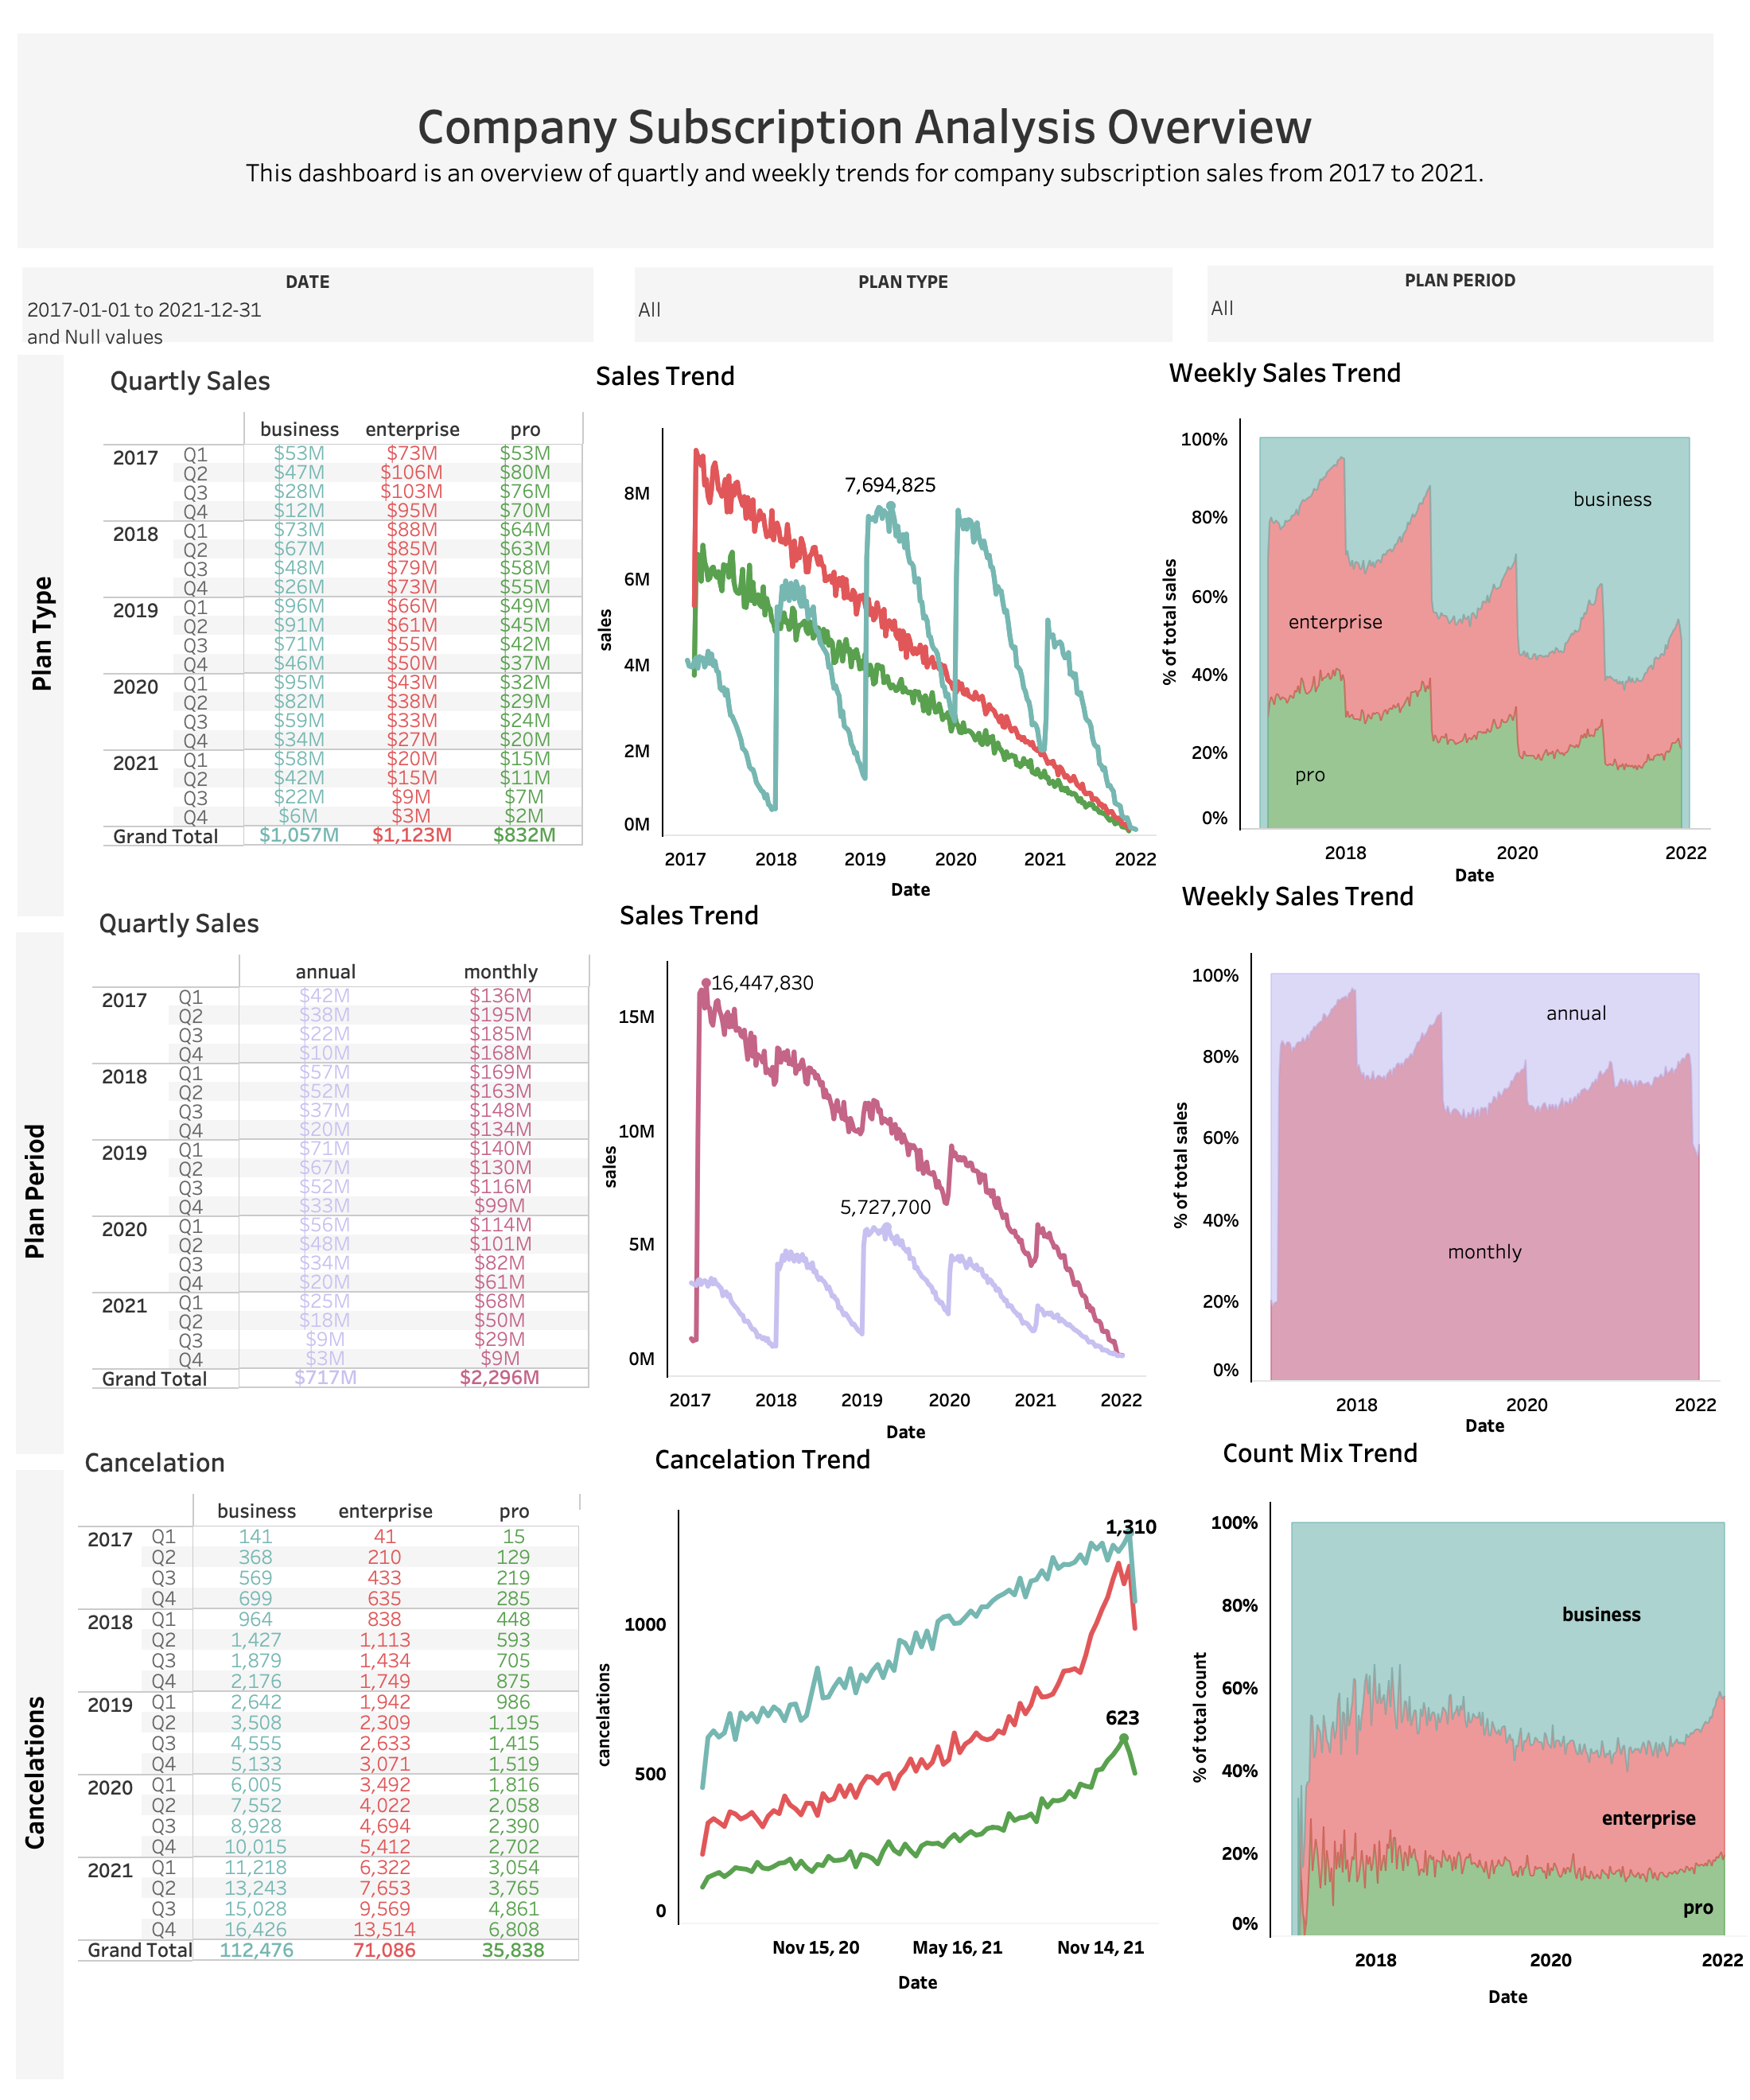

This screenshot's page, from the dashboard's own definition file:
{"tool":"tableau","page":{"name":"Dashboard 1","canvas":[1100,1320],"ordinal":0},"visuals":[{"type":"text","box":[11,21,1066,135]},{"type":"filter","title":"billing period chart","param":"[federated.15l2kb11gxwmot1cpguur0mqyc2r].[none:billing_period:nk]","box":[759,167,318,48]},{"type":"filter","title":"Sales Trend","param":"[federated.15l2kb11gxwmot1cpguur0mqyc2r].[none:Signup Date (copy)_65050274692199","box":[14,168,359,47]},{"type":"filter","title":"Sales Trend","param":"[federated.15l2kb11gxwmot1cpguur0mqyc2r].[none:product:nk]","box":[399,168,338,47]},{"type":"text","box":[732,219,170,30]},{"type":"text","box":[372,221,100,30]},{"type":"worksheet","title":"Sales Trend","mark":"Automatic","rows":["signup_date","signup_date"],"cols":["product"],"box":[65,222,322,334]},{"type":"text","box":[11,223.4,29,352.3]},{"type":"worksheet","title":"Product Sales Mix Trend Graph","mark":"Area","cols":["Signup Date (copy)_6505027469219930113"],"box":[727,248,348,309]},{"type":"worksheet","title":"Sales Trend Graph","mark":"Line","rows":["sales","sales"],"cols":["Signup Date (copy)_6505027469219930113"],"box":[372,254,357,312]},{"type":"text","box":[740,548,170,30]},{"type":"text","box":[387,560,100,30]},{"type":"worksheet","title":"billing period chart","mark":"Automatic","rows":["signup_date","signup_date"],"cols":["billing_period"],"box":[58,563,321,364]},{"type":"worksheet","title":"Billing-Period Mix Sales Trend ","mark":"Area","cols":["Signup Date (copy)_6505027469219930113"],"box":[734,584,347,319]},{"type":"text","box":[10,586,30,328]},{"type":"worksheet","title":"Billing-Period Sales Trend Graph","mark":"Automatic","rows":["sales"],"cols":["Signup Date (copy)_6505027469219930113"],"box":[375,589,345,318]},{"type":"text","box":[766,898,170,30]},{"type":"text","box":[409,902,143,30]},{"type":"text","box":[10,924,30,383]},{"type":"worksheet","title":"Cancelation Mix Trend","mark":"Area","cols":["cancel_date"],"box":[746,929,352,333]},{"type":"worksheet","title":"Cancelation Rate Graph","mark":"Automatic","rows":["cancel_date"],"cols":["cancel_date"],"box":[369,932,364,326]}]}

Visuals, with their boxes in screenshot pixels (x1, y1, x2, y2), scaled from the page's 1100x1320 canvas onto the 1750x2100 screenshot:
text: (left=17, top=33, right=1713, bottom=248)
"billing period chart" filter: (left=1207, top=266, right=1713, bottom=342)
"Sales Trend" filter: (left=22, top=267, right=593, bottom=342)
"Sales Trend" filter: (left=635, top=267, right=1172, bottom=342)
text: (left=1165, top=348, right=1435, bottom=396)
text: (left=592, top=352, right=751, bottom=399)
"Sales Trend" worksheet: (left=103, top=353, right=616, bottom=885)
text: (left=17, top=356, right=64, bottom=916)
"Product Sales Mix Trend Graph" worksheet (Area marks): (left=1157, top=395, right=1710, bottom=886)
"Sales Trend Graph" worksheet (Line marks): (left=592, top=404, right=1160, bottom=900)
text: (left=1177, top=872, right=1448, bottom=920)
text: (left=616, top=891, right=775, bottom=939)
"billing period chart" worksheet: (left=92, top=896, right=603, bottom=1475)
"Billing-Period Mix Sales Trend " worksheet (Area marks): (left=1168, top=929, right=1720, bottom=1437)
text: (left=16, top=932, right=64, bottom=1454)
"Billing-Period Sales Trend Graph" worksheet: (left=597, top=937, right=1145, bottom=1443)
text: (left=1219, top=1429, right=1489, bottom=1476)
text: (left=651, top=1435, right=878, bottom=1483)
text: (left=16, top=1470, right=64, bottom=2079)
"Cancelation Mix Trend" worksheet (Area marks): (left=1187, top=1478, right=1747, bottom=2008)
"Cancelation Rate Graph" worksheet: (left=587, top=1483, right=1166, bottom=2001)
